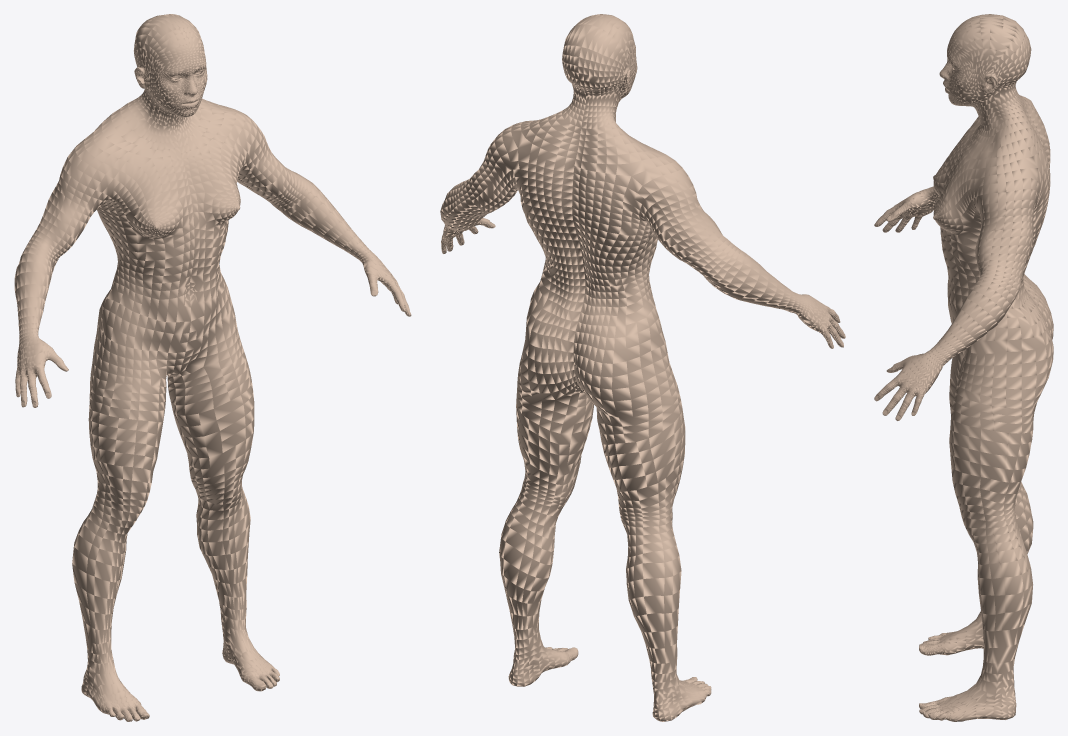
The model's file is female_high_high.glb.
The picture shows the model from 3 angles, left to right: view 1: azimuth 30°, elevation 25°; view 2: azimuth 150°, elevation 25°; view 3: azimuth 270°, elevation 25°; orthographic projection. The views are drawn at different scales.
Visible parts, largest first — view 1: female_high_highMesh; view 2: female_high_highMesh; view 3: female_high_highMesh.
Part boxes in pixels (<box>): female_high_highMesh: <box>14,14,411,721</box>; female_high_highMesh: <box>440,14,845,721</box>; female_high_highMesh: <box>874,14,1053,721</box>.
Size of the model in its own units: 9.81 by 16.06 by 3.93.
